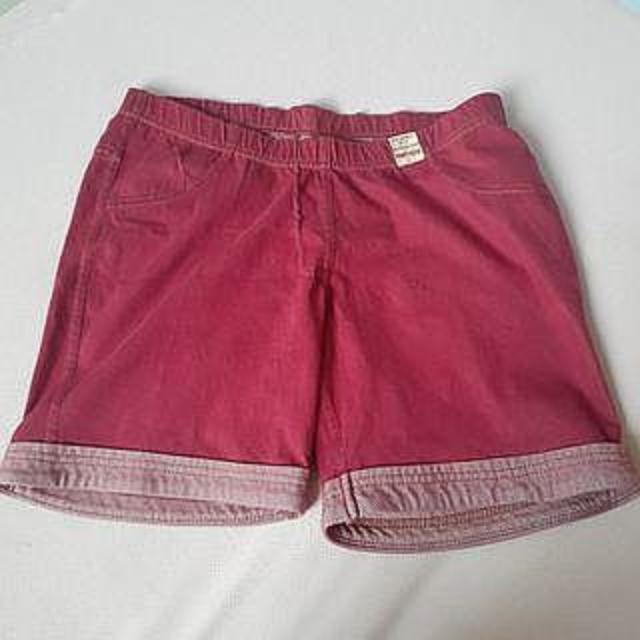SHORT: (0, 69, 640, 563)
